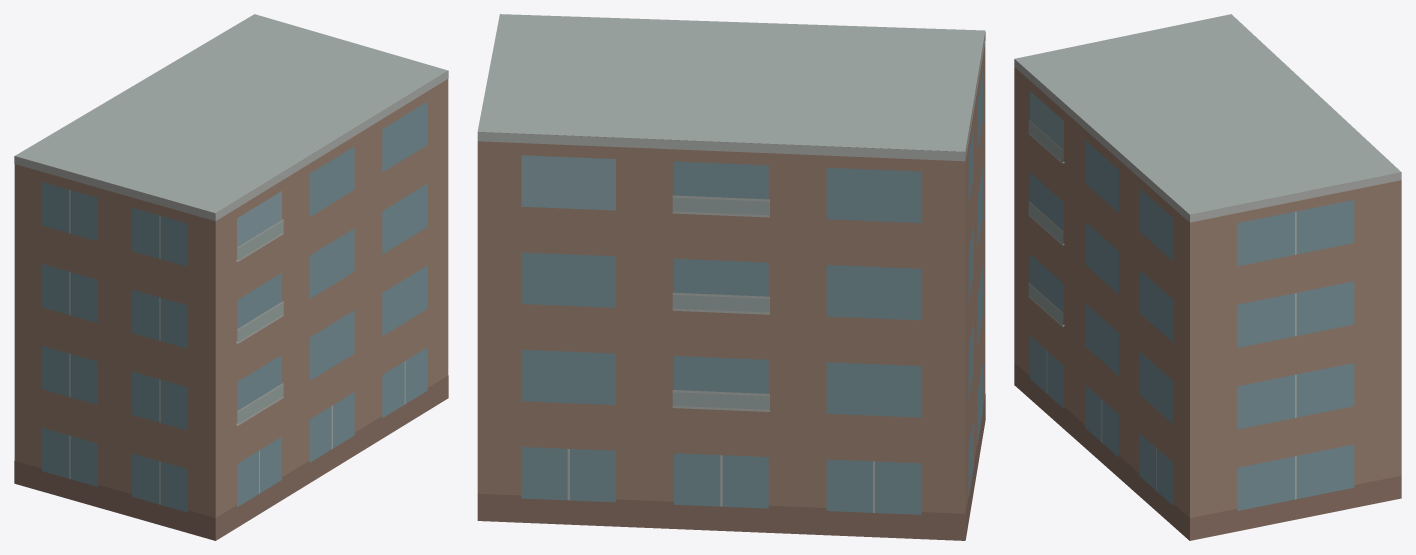
Rendered from survey-upis-32904256.glb.
The picture shows the model from 3 angles, left to right: view 1: azimuth 30°, elevation 25°; view 2: azimuth 150°, elevation 25°; view 3: azimuth 270°, elevation 25°; orthographic projection. The views are drawn at different scales.
Visible parts, largest first — view 1: survey-upis-32904256.tmp; view 2: survey-upis-32904256.tmp; view 3: survey-upis-32904256.tmp.
Boxes of the visible parts, bbox=[...] form: survey-upis-32904256.tmp: bbox=[14, 14, 448, 540]; survey-upis-32904256.tmp: bbox=[477, 14, 985, 540]; survey-upis-32904256.tmp: bbox=[1014, 14, 1401, 540].
Bounding box in the file's own units: 13.2 × 10 × 10.77.
